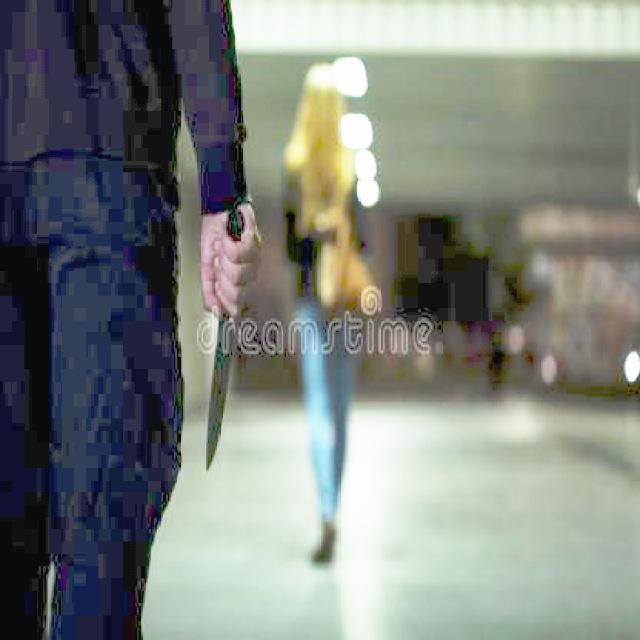Knife: (201, 205, 247, 471)
